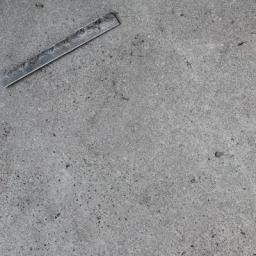FOD: (1, 11, 122, 89)
